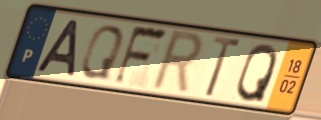A: (33, 18, 82, 79)
F: (110, 23, 171, 88)
Q: (77, 23, 127, 82), (234, 42, 280, 105)
R: (147, 28, 207, 98)
T: (203, 34, 245, 99)
